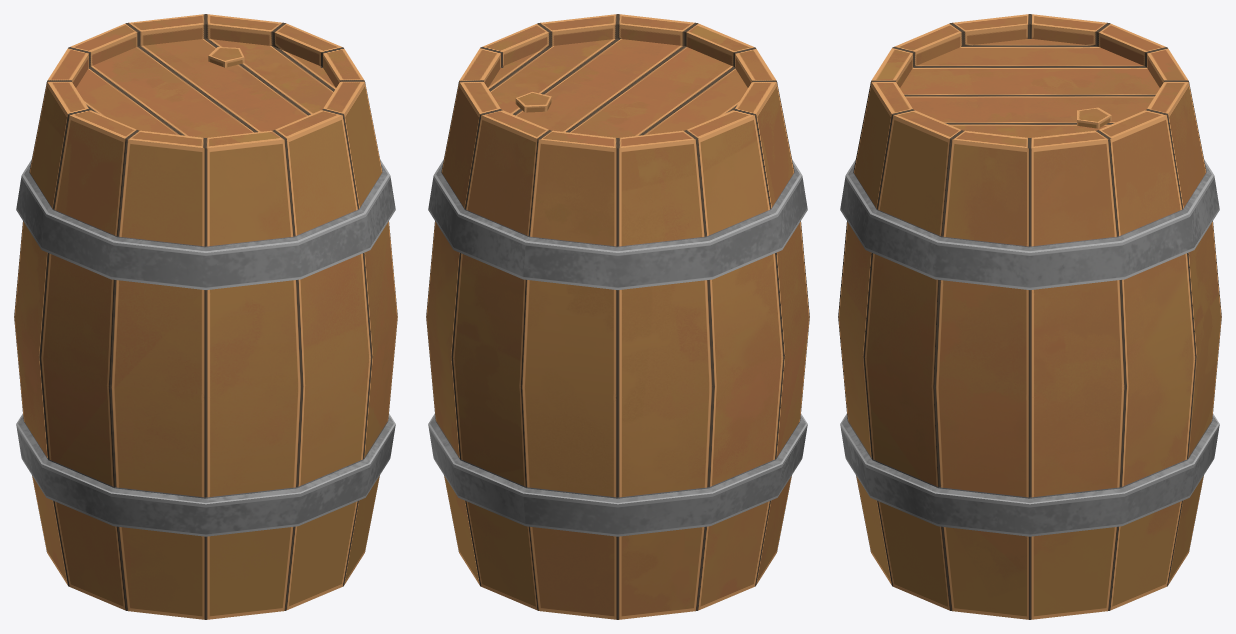
Rendered from Barrel.fbx.
The picture shows the model from 3 angles, left to right: view 1: azimuth 30°, elevation 25°; view 2: azimuth 150°, elevation 25°; view 3: azimuth 270°, elevation 25°; orthographic projection.
Visible parts, largest first — view 1: Barrel_LOD0; view 2: Barrel_LOD0; view 3: Barrel_LOD0.
Boxes of the visible parts, x1=… form: Barrel_LOD0: x1=14, y1=14, x2=397, y2=619; Barrel_LOD0: x1=426, y1=14, x2=809, y2=619; Barrel_LOD0: x1=838, y1=14, x2=1221, y2=619.
Size of what is drawn, in the model's own units: 66.38 by 90 by 66.38.
